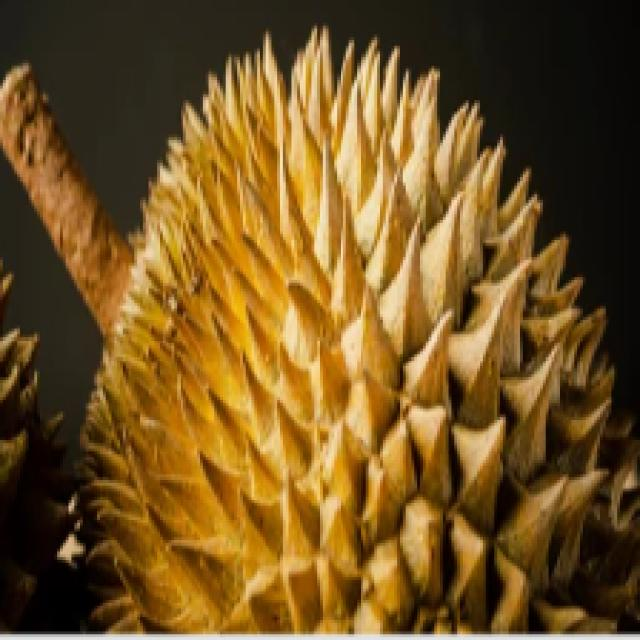d24: (0, 61, 622, 611)
